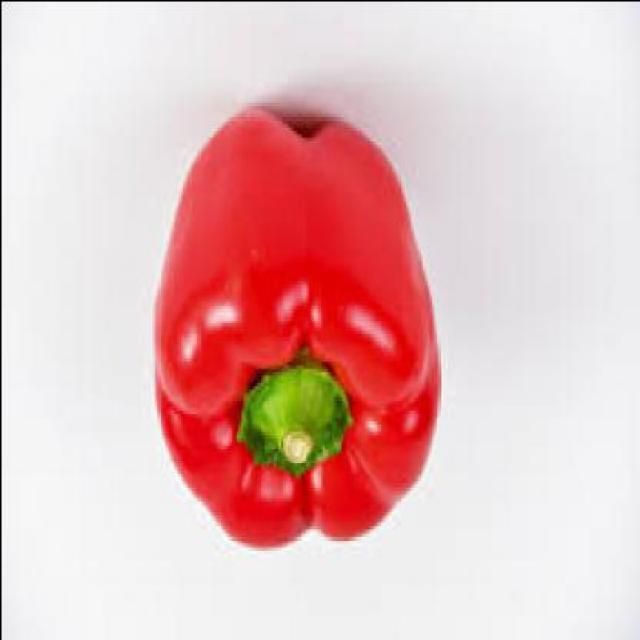BIODEGRADABLE: (156, 105, 442, 552)
